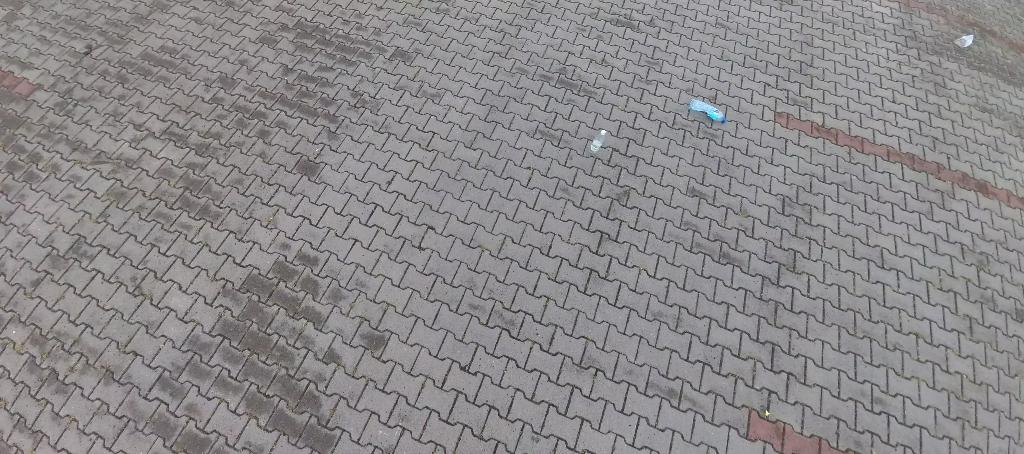garbage: (690, 99, 728, 124), (589, 130, 608, 155)
